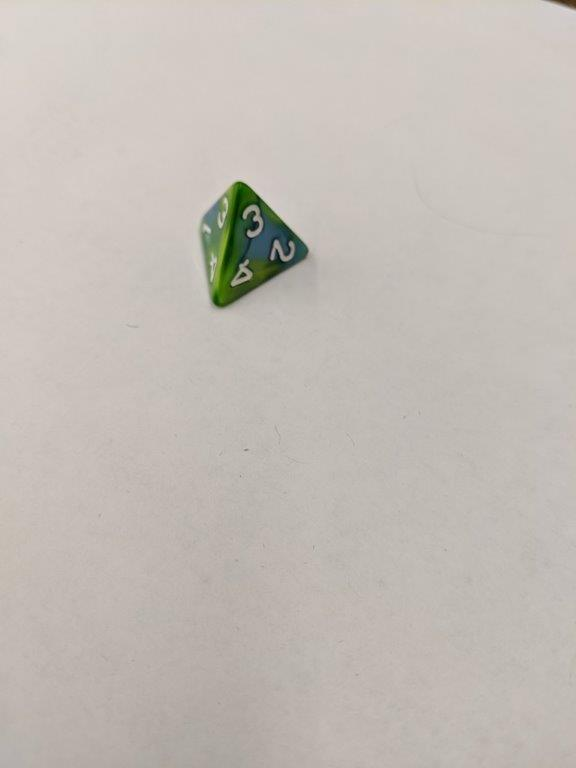d4-3: (191, 178, 313, 311)
